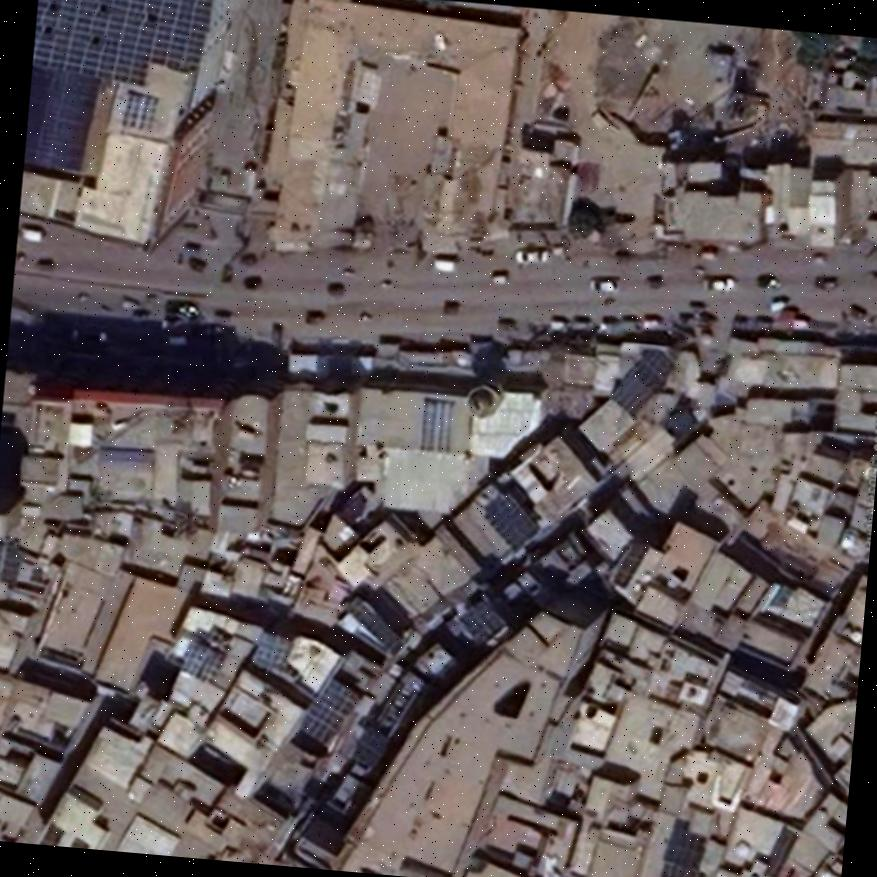Solarpanel: (31, 0, 211, 94), (298, 672, 359, 753), (606, 356, 666, 420), (481, 493, 541, 548), (180, 637, 226, 686), (662, 823, 708, 868), (611, 537, 648, 590), (251, 629, 291, 671), (121, 88, 156, 130)
